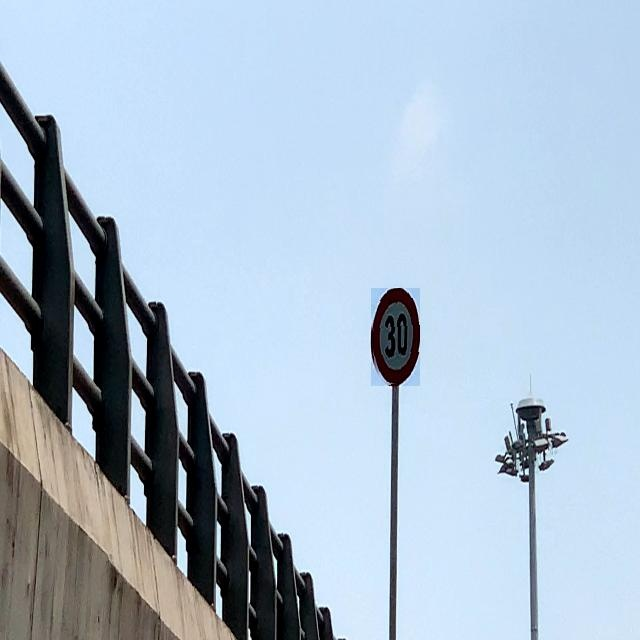bien_cam: (371, 288, 420, 386)
